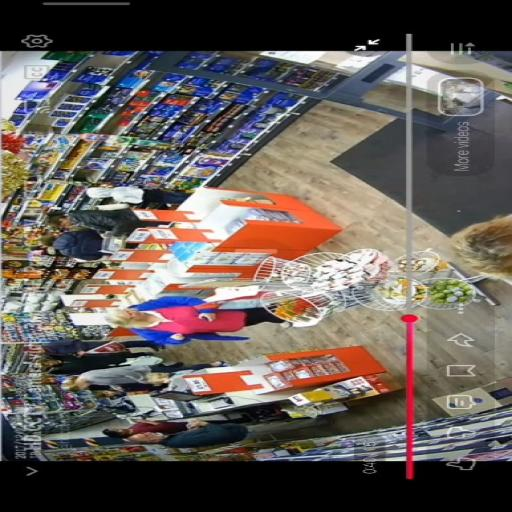workers: (106, 294, 287, 346), (73, 358, 225, 390), (448, 214, 512, 284), (105, 423, 253, 453), (45, 347, 171, 379), (60, 377, 192, 404), (36, 332, 160, 358), (53, 210, 141, 240), (104, 412, 200, 438), (85, 184, 175, 211), (48, 228, 118, 262)
